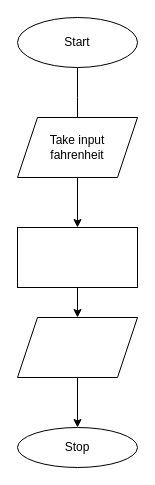
Image size: 155x485. Some labels were removed from this diagram. Here are the shapes that lost their labels. From the top down, the centre of each, then its label:
At point 77,257: "c = (f-32) x (5/9)".
At point 77,347: "Print c".
